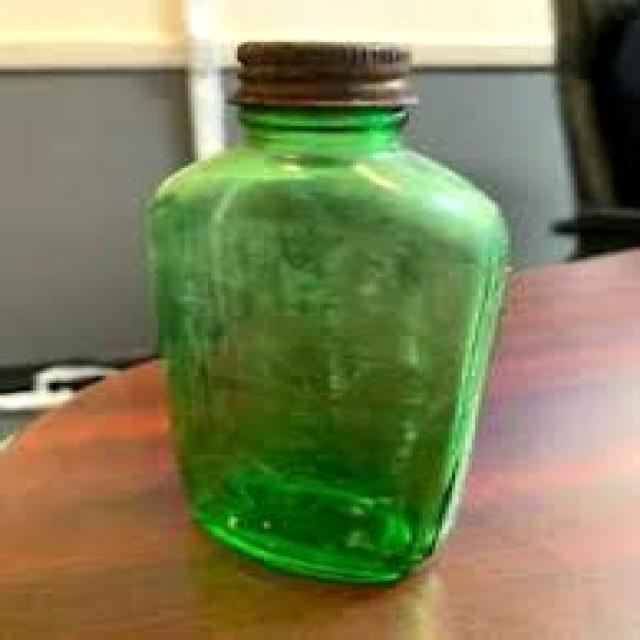Glass: (139, 32, 519, 586)
